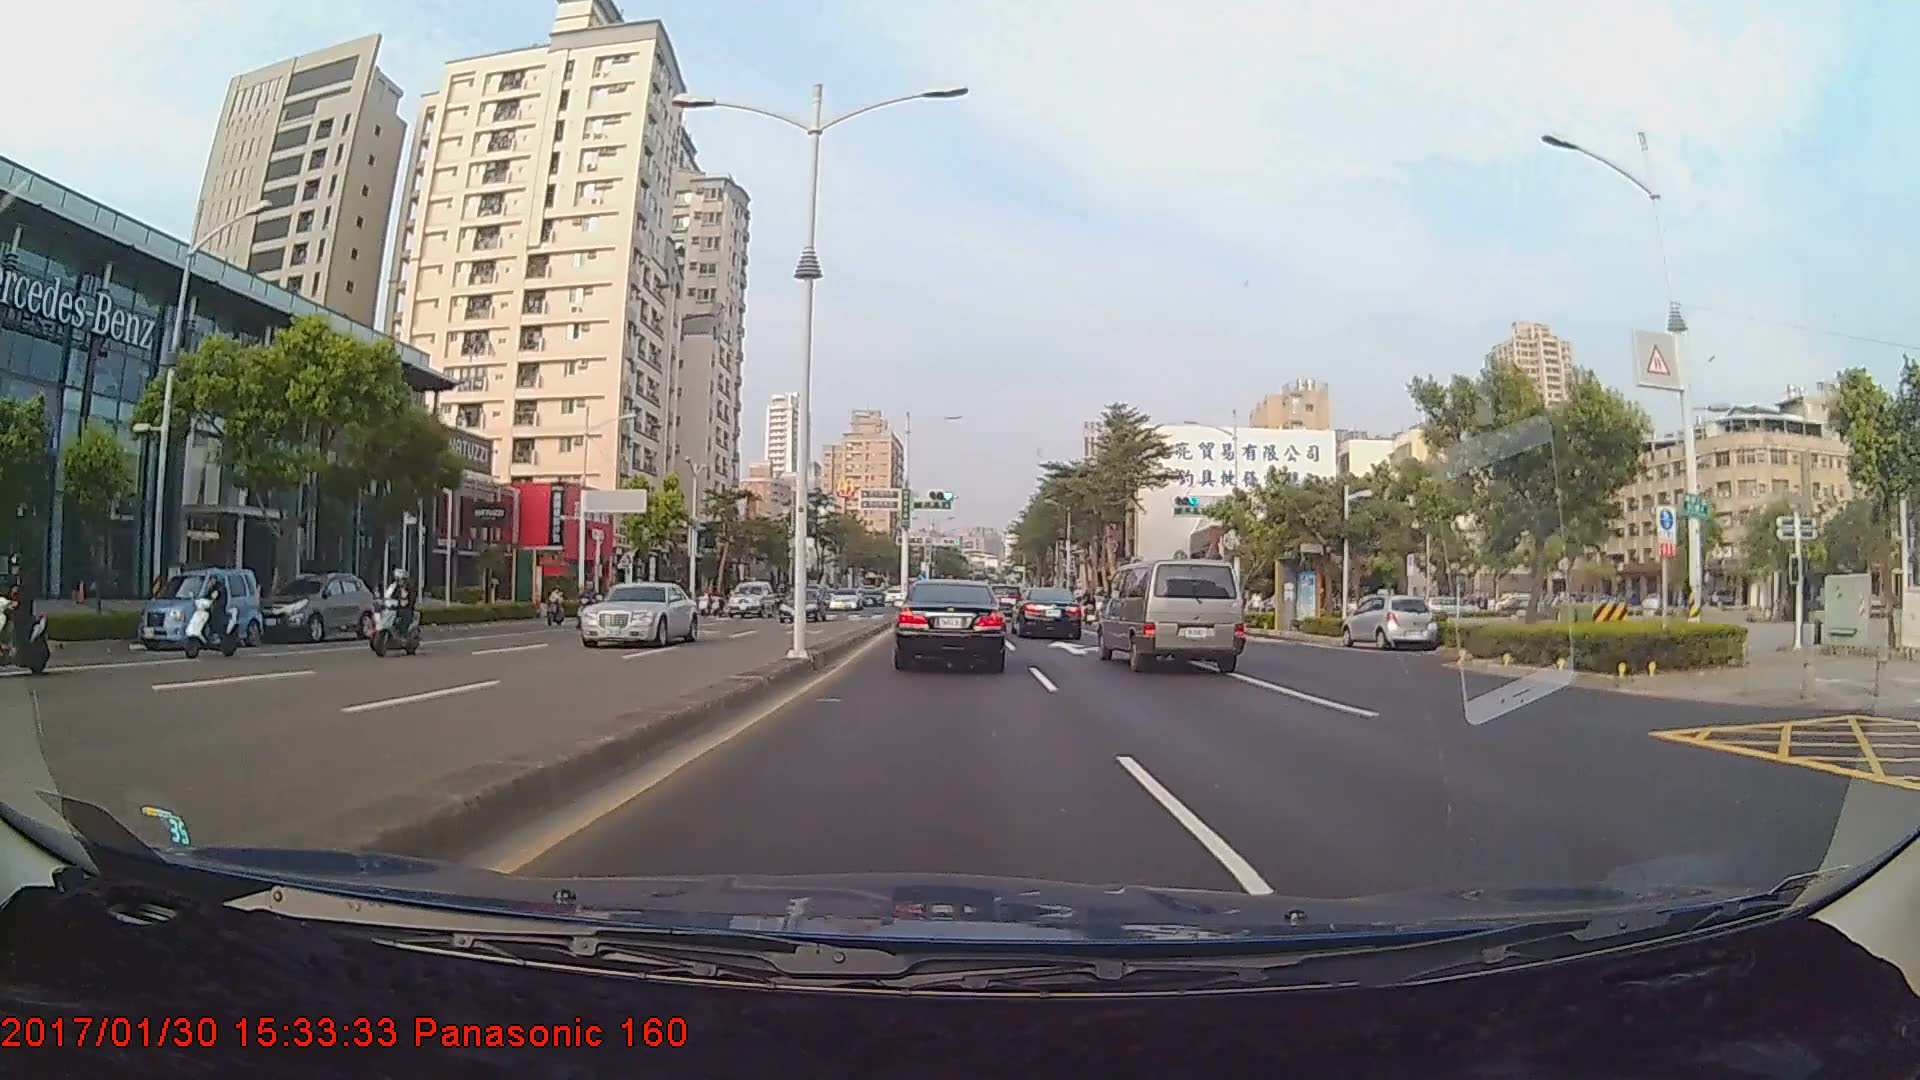rider: (1, 547, 61, 681), (177, 572, 252, 659), (368, 568, 420, 658), (368, 574, 422, 650)
vehicle: (1097, 555, 1245, 674), (135, 563, 262, 649), (896, 578, 1006, 670), (255, 572, 370, 648), (577, 580, 697, 649), (1340, 594, 1438, 651), (1012, 586, 1085, 640), (725, 581, 777, 620), (782, 591, 830, 626), (826, 589, 863, 612)
